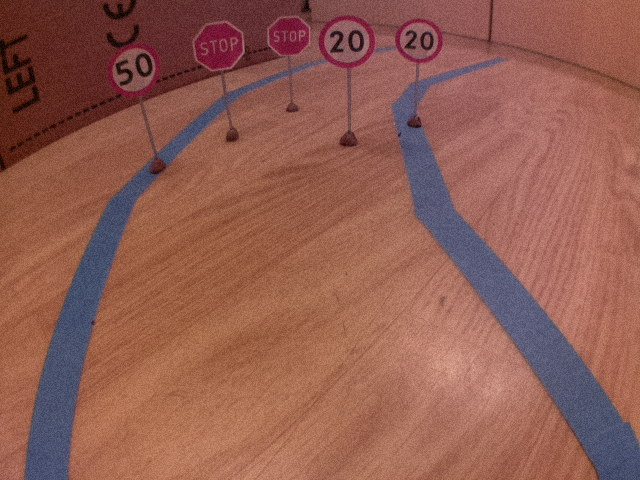ogr_20: (317, 13, 377, 71), (392, 16, 447, 65)
ogr_50: (105, 41, 164, 102)
stop: (190, 19, 247, 76), (265, 13, 313, 58)
